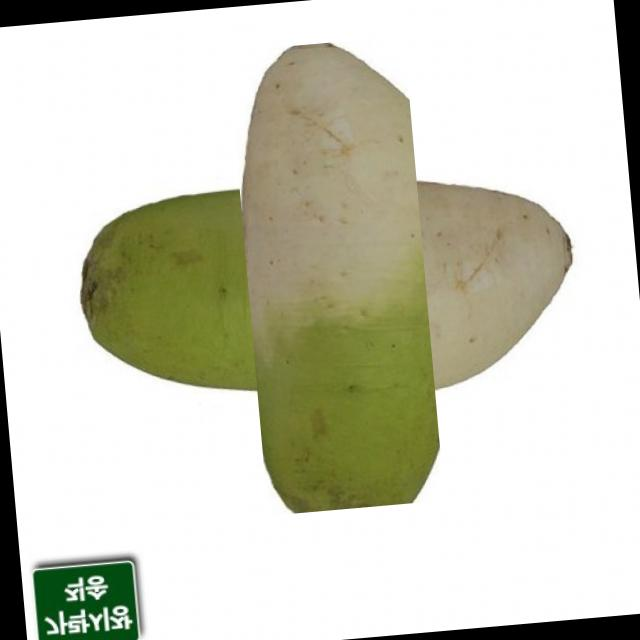radish: (160, 102, 510, 450)
